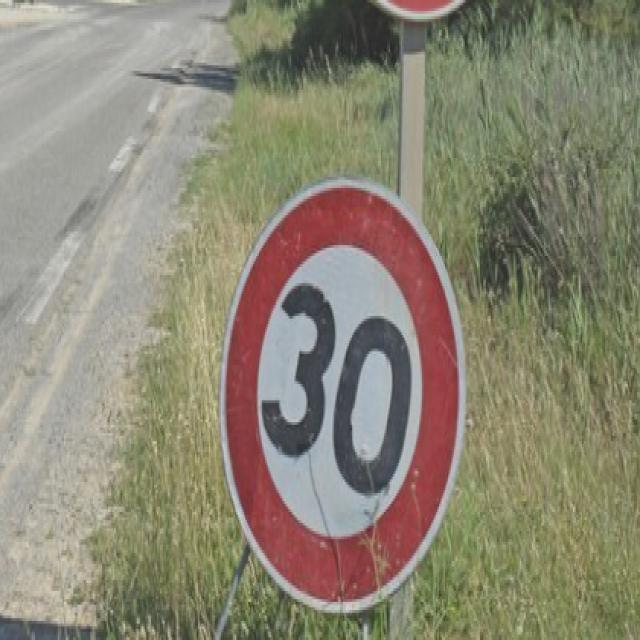speed_30: (219, 174, 467, 616)
